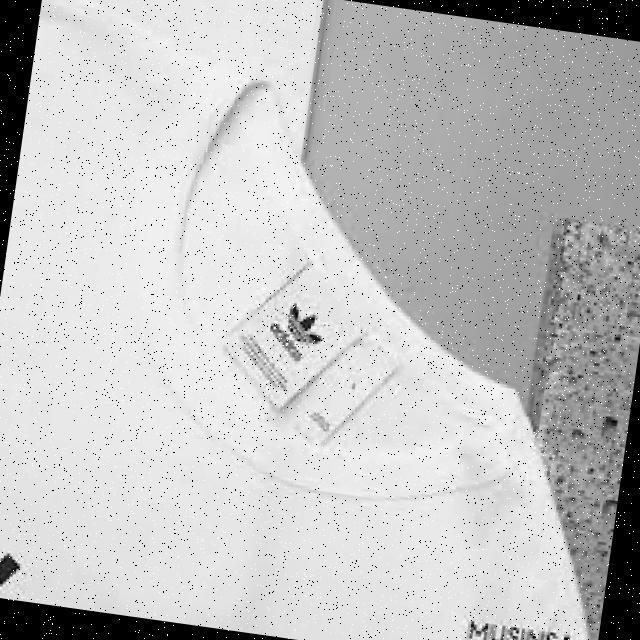Adidas: (258, 295, 334, 369)
